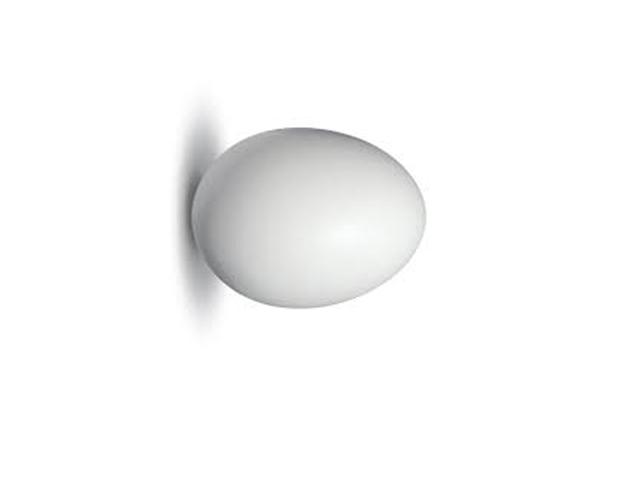egg: (191, 130, 427, 308)
